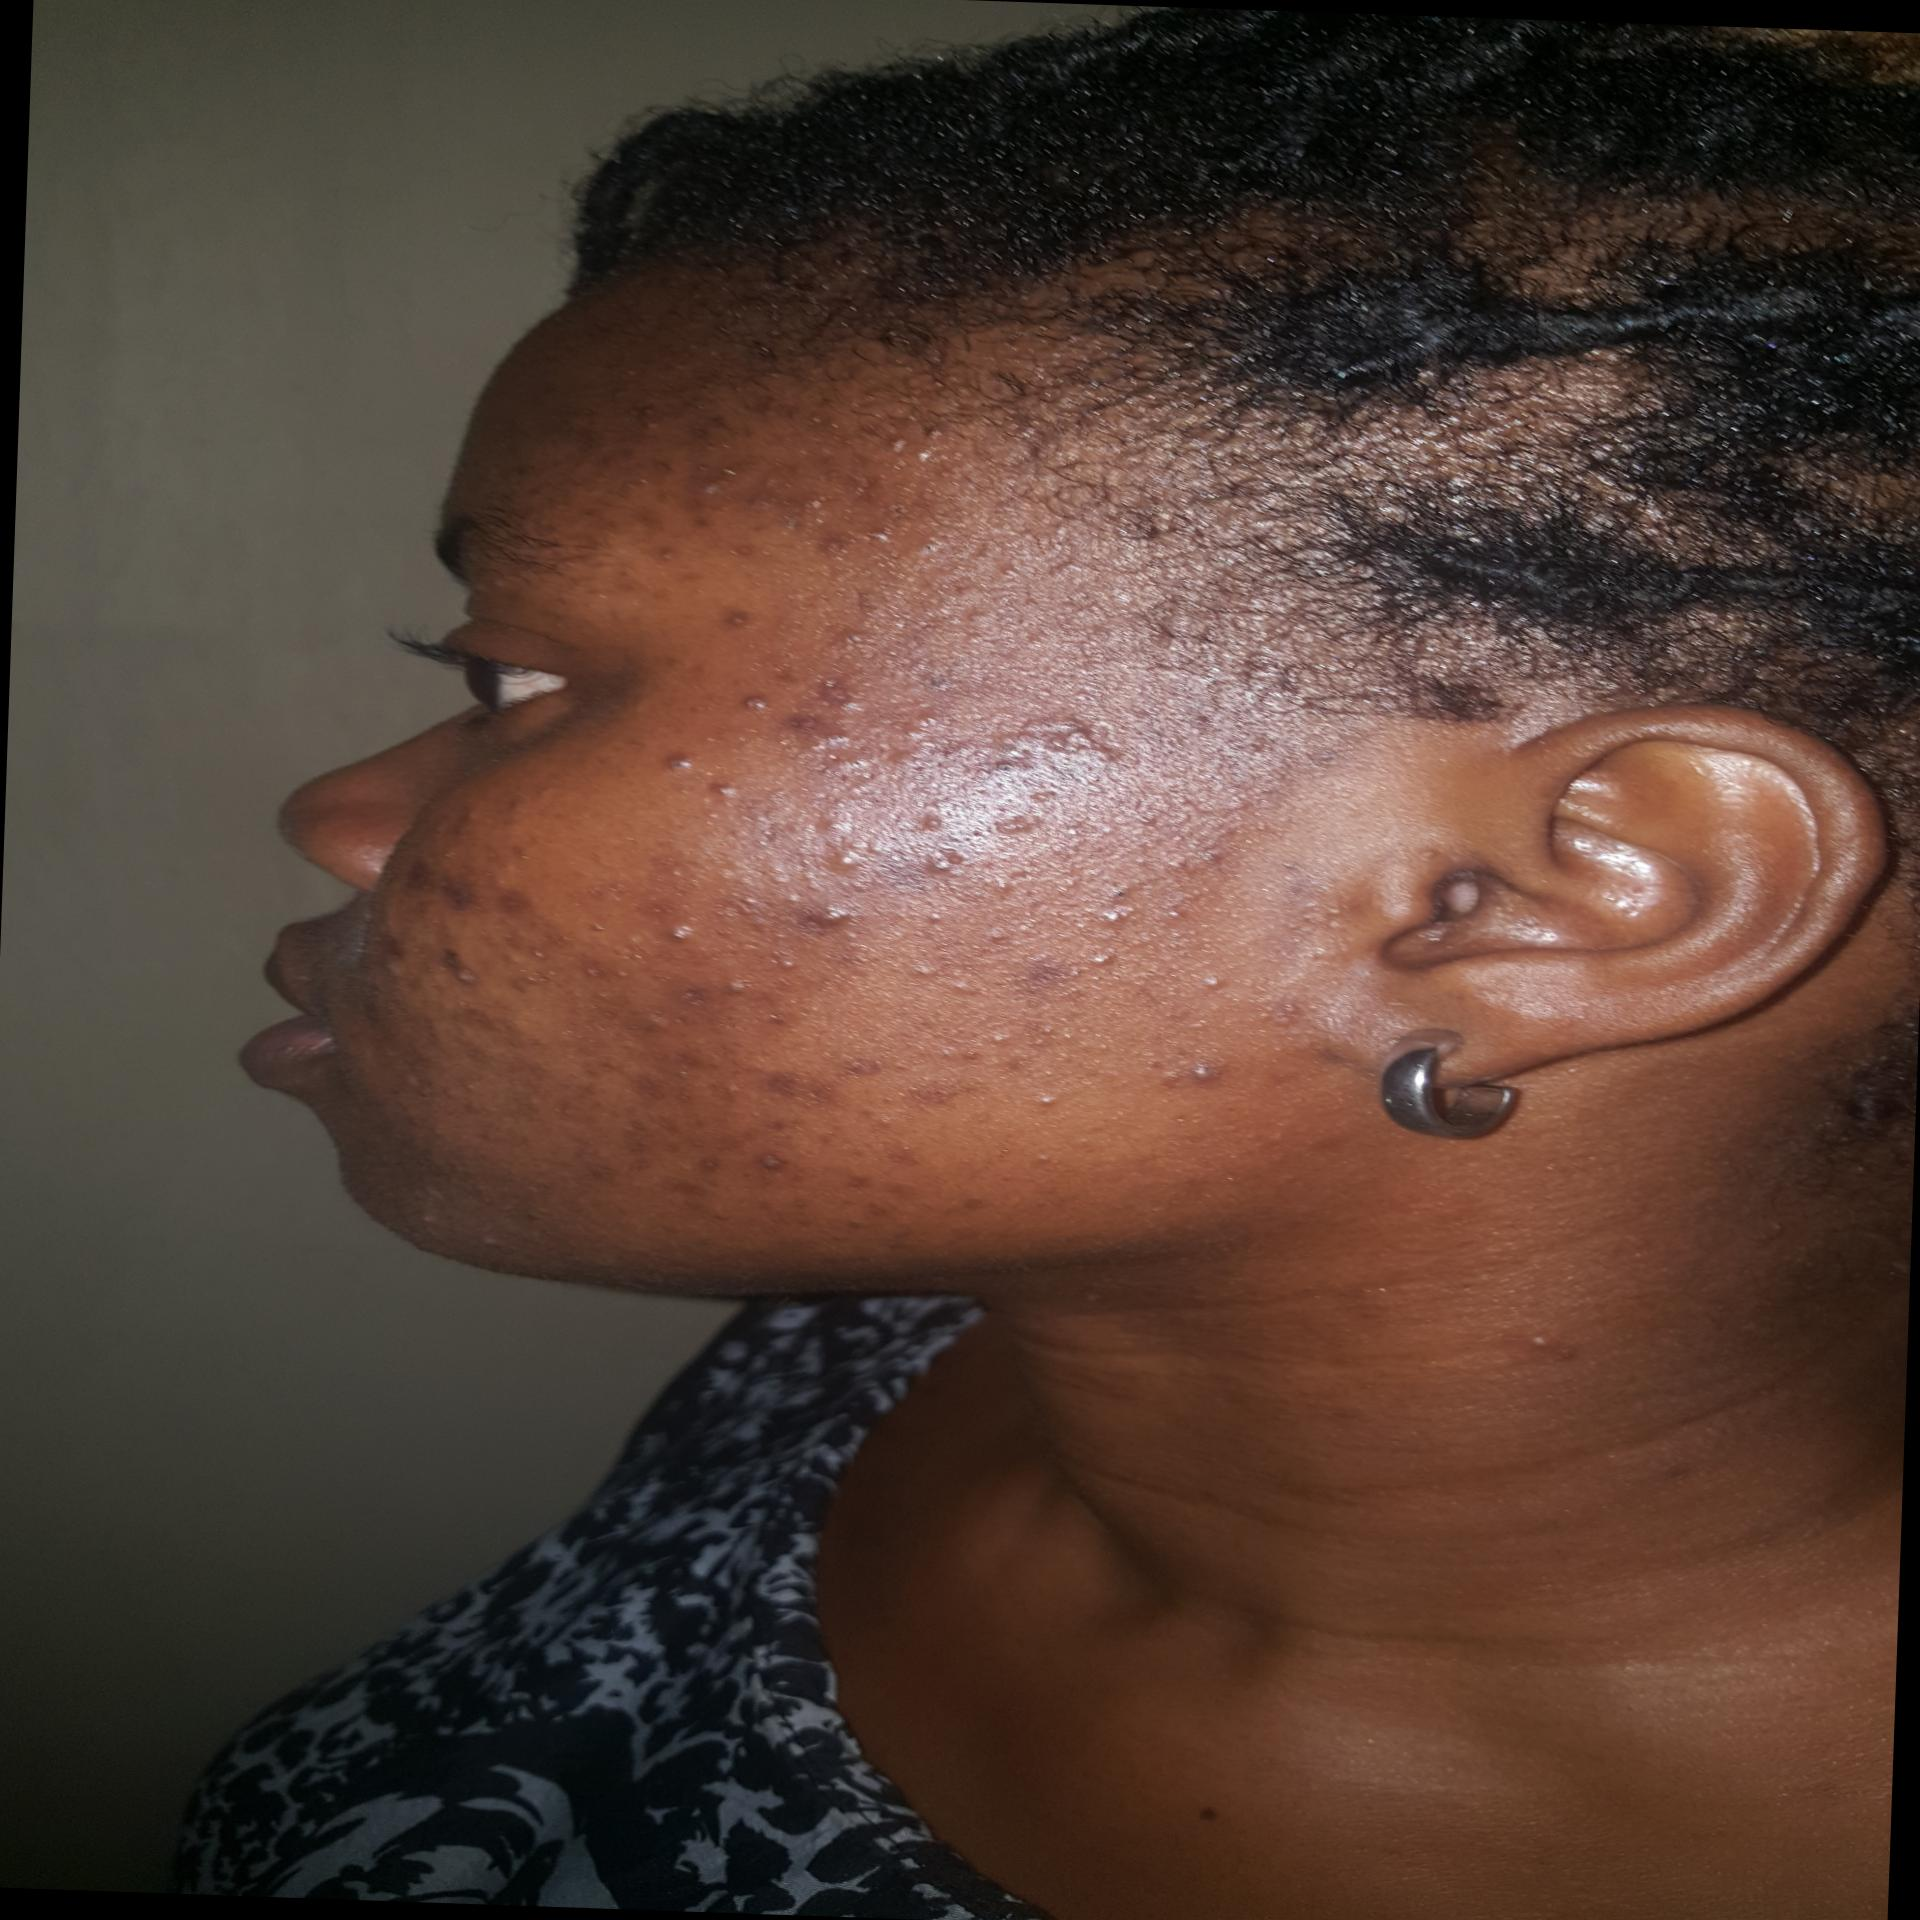Acne: (972, 714, 1131, 793), (670, 454, 756, 538), (382, 858, 482, 918), (883, 703, 949, 777), (886, 956, 985, 1006), (805, 811, 874, 877), (440, 1006, 550, 1046), (424, 795, 489, 849), (614, 1064, 703, 1102), (828, 1169, 927, 1204), (870, 417, 948, 459), (656, 1034, 719, 1085), (798, 898, 869, 944), (814, 753, 902, 788), (1004, 955, 1078, 995), (484, 877, 543, 927), (1141, 1058, 1227, 1092), (710, 881, 775, 925), (738, 1065, 814, 1102), (1169, 837, 1240, 876), (811, 672, 867, 717), (821, 1048, 905, 1078), (888, 898, 949, 939), (436, 944, 492, 988), (385, 1062, 448, 1101), (979, 809, 1051, 842), (563, 951, 624, 988), (737, 1148, 807, 1180), (826, 617, 879, 659), (1510, 1320, 1570, 1357), (607, 1007, 680, 1037), (969, 870, 1124, 884), (777, 703, 833, 740), (956, 1027, 1015, 1062), (645, 914, 703, 949), (761, 937, 814, 976), (705, 971, 763, 1004), (691, 775, 751, 807), (802, 529, 856, 563), (491, 777, 536, 816), (665, 862, 724, 890), (712, 601, 765, 631), (956, 603, 1006, 635), (369, 930, 413, 965), (782, 485, 844, 510), (944, 1183, 992, 1215), (1013, 1146, 1065, 1175), (399, 1201, 440, 1236), (731, 689, 775, 721), (967, 923, 1020, 949), (914, 804, 962, 832), (883, 1136, 941, 1159), (1092, 898, 1136, 928), (1076, 946, 1122, 974), (981, 874, 1029, 900), (489, 946, 533, 974), (659, 747, 705, 772), (1192, 969, 1227, 997), (1157, 902, 1196, 927), (652, 536, 687, 563), (768, 999, 809, 1022), (687, 1152, 730, 1173), (863, 522, 902, 545), (1036, 1085, 1067, 1111)
Englarged Pores: (777, 716, 1148, 911)
